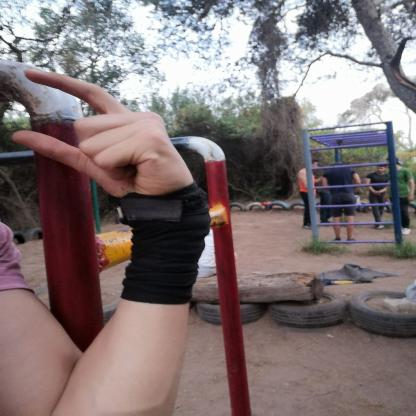DELL: (4, 55, 212, 215)
